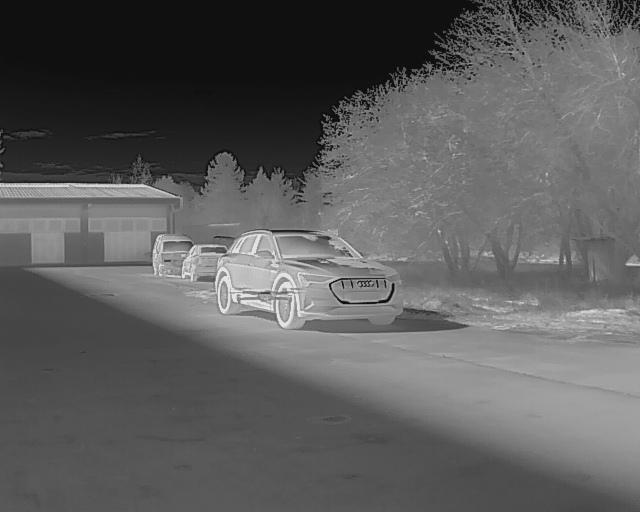drone: (220, 283, 311, 313)
